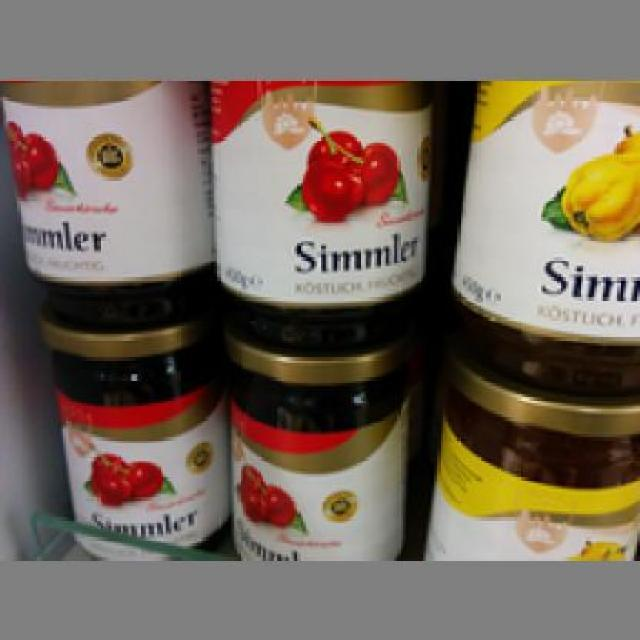Jam: (205, 77, 438, 354), (445, 80, 638, 397), (0, 80, 212, 329), (37, 306, 226, 554), (408, 363, 638, 557), (226, 340, 414, 557)
